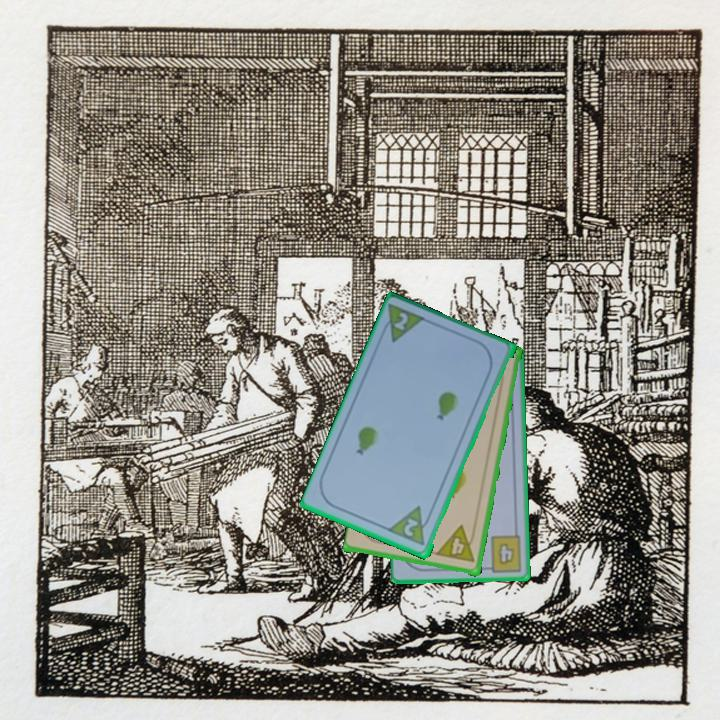2p: (377, 301, 430, 346), (400, 515, 421, 540)
4b: (481, 532, 525, 575)
4p: (434, 523, 479, 566)
